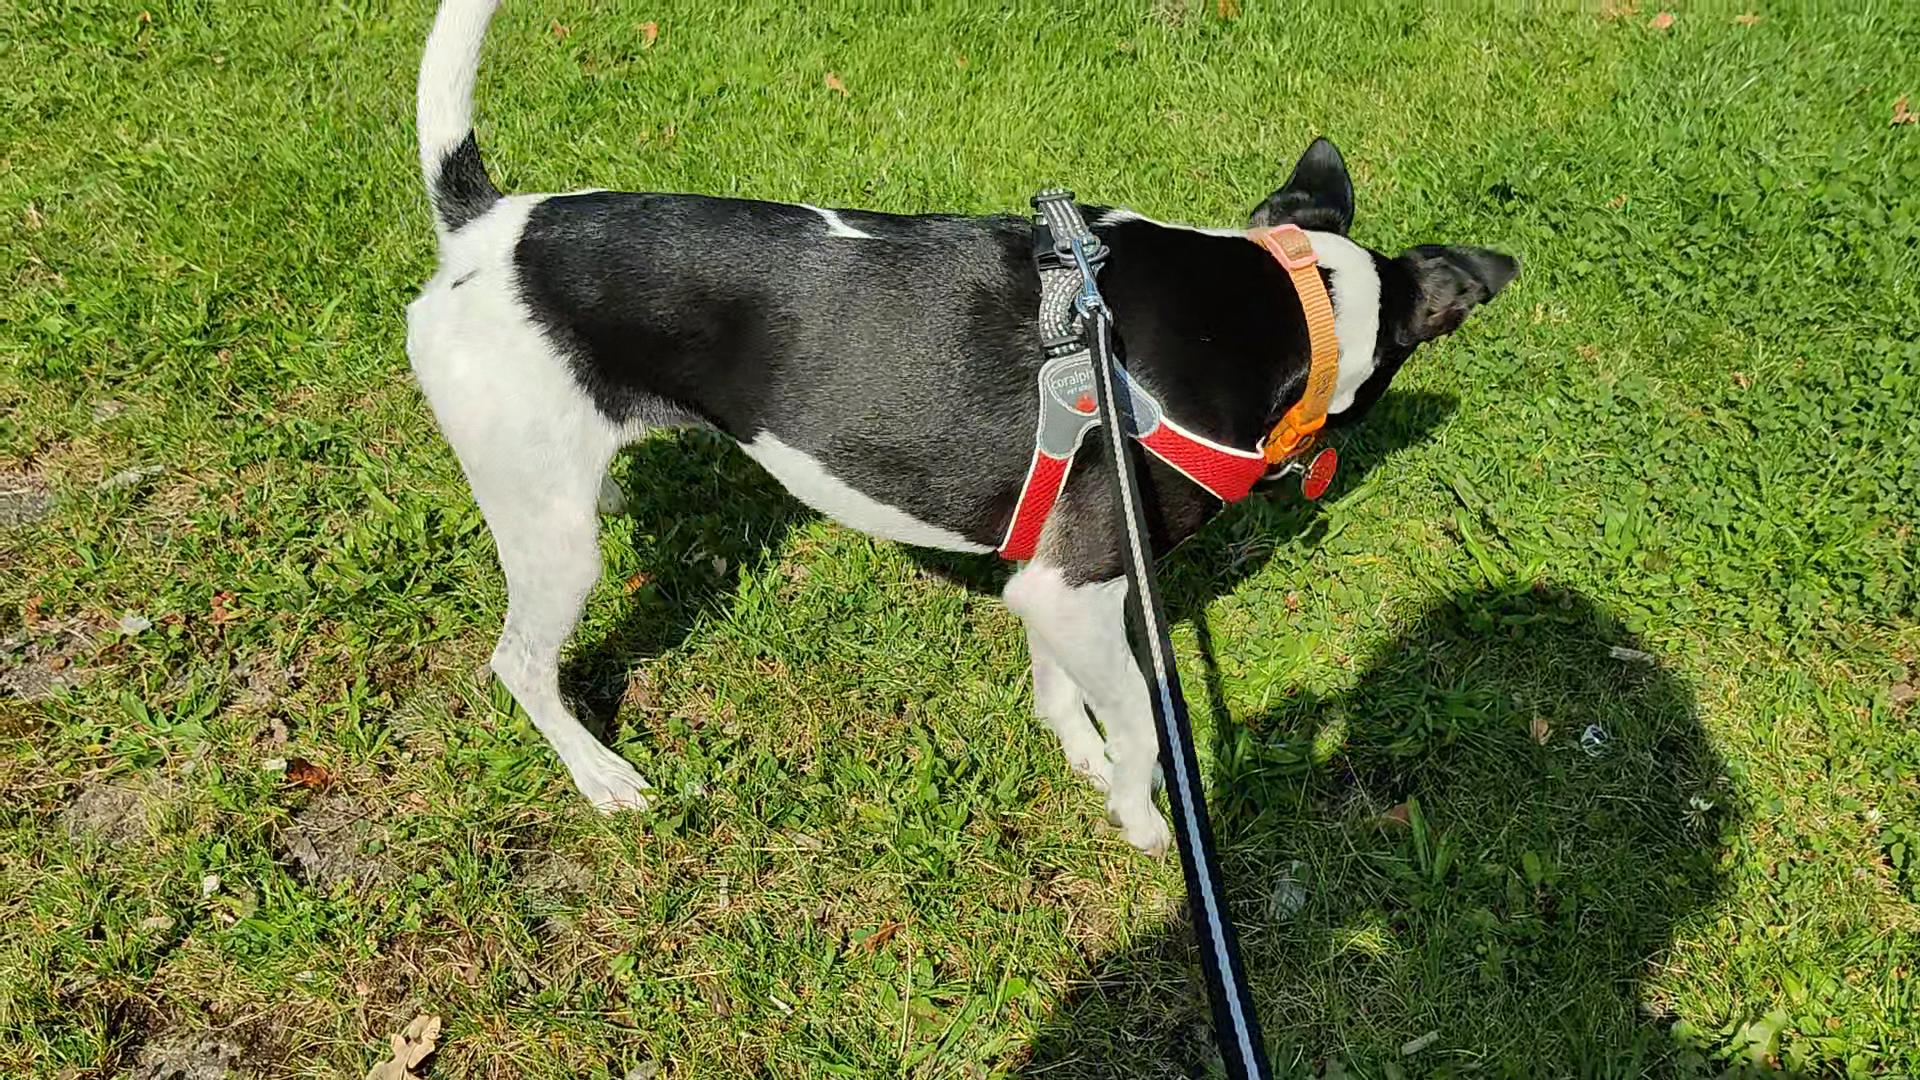Dog: (398, 0, 1523, 856)
